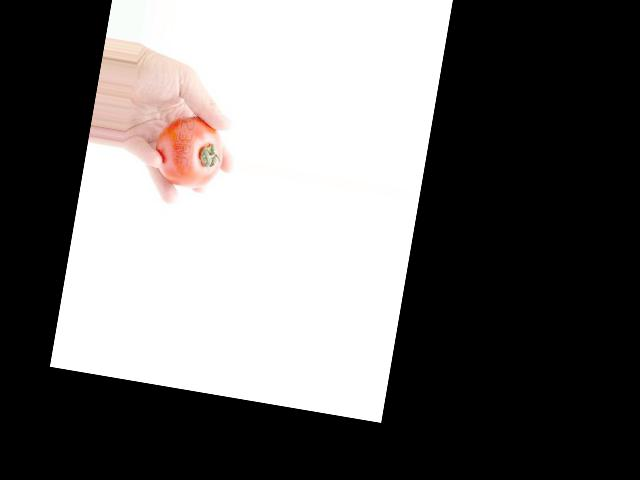tomato: (149, 111, 228, 193)
